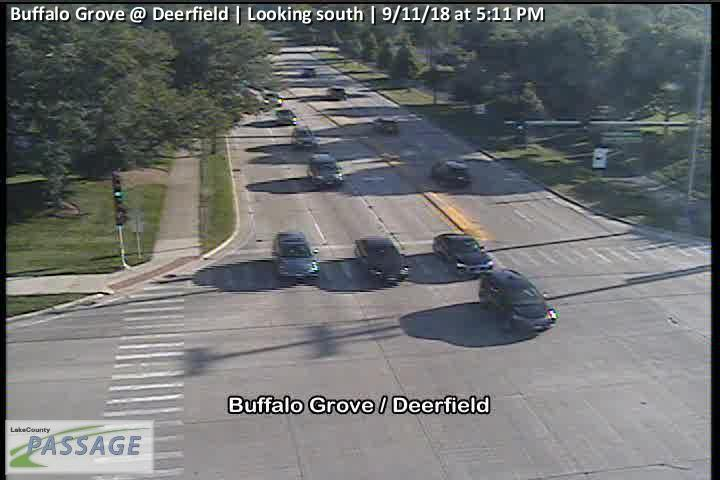Sedan: (477, 267, 558, 335), (352, 234, 410, 288), (431, 233, 494, 278), (269, 230, 320, 279), (305, 153, 343, 187), (429, 157, 472, 187), (291, 126, 314, 148)
